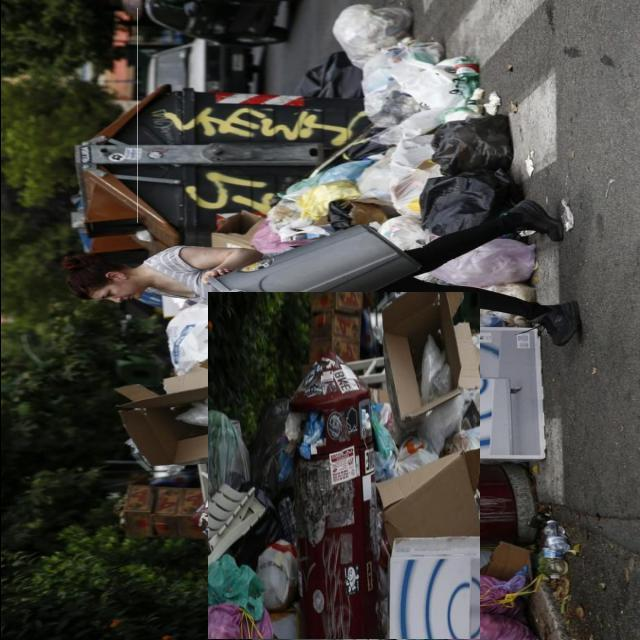Trashbag: (420, 115, 520, 167), (408, 178, 512, 222)
